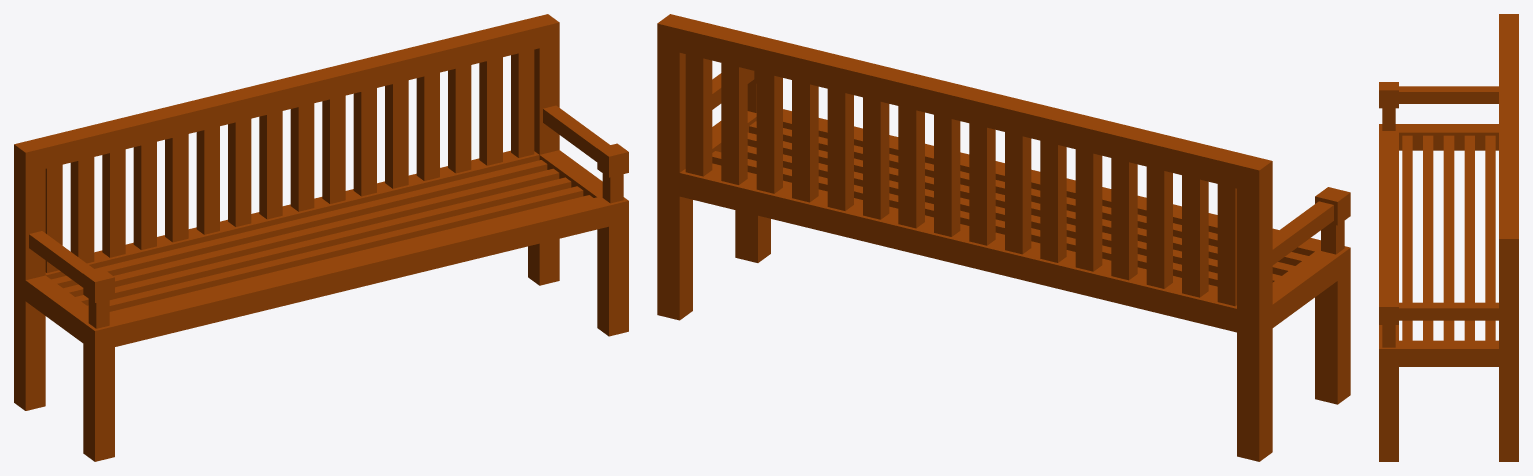
The model's file is WR Bench.fbx.
3 renders of one model, left to right at view 1: azimuth 30°, elevation 25°; view 2: azimuth 150°, elevation 25°; view 3: azimuth 270°, elevation 25°, orthographic. The views are drawn at different scales.
Visible parts, largest first — view 1: WR Bench0; view 2: WR Bench0; view 3: WR Bench0.
Boxes of the visible parts, <box> form: WR Bench0: <box>14,14,628,461</box>; WR Bench0: <box>657,14,1350,461</box>; WR Bench0: <box>1379,14,1518,461</box>.
Bounding box in the file's own units: 80 × 37 × 21.
